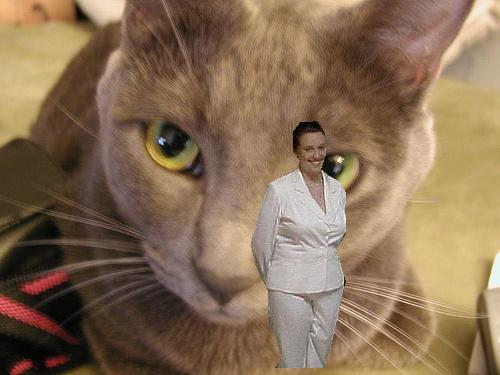tampered: (252, 122, 346, 368)
